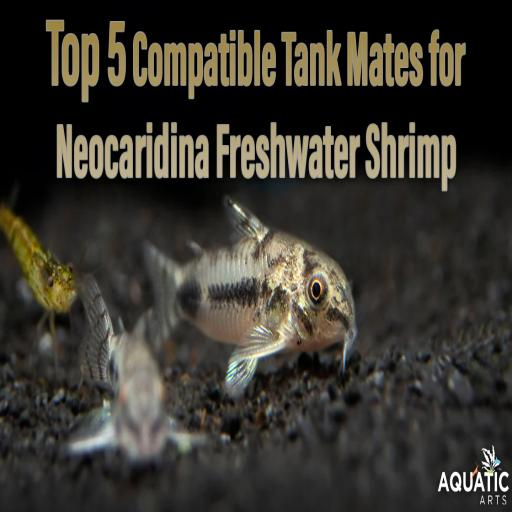Shrimp: (0, 196, 78, 340)
